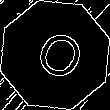O_SW: (24, 22, 86, 88)
